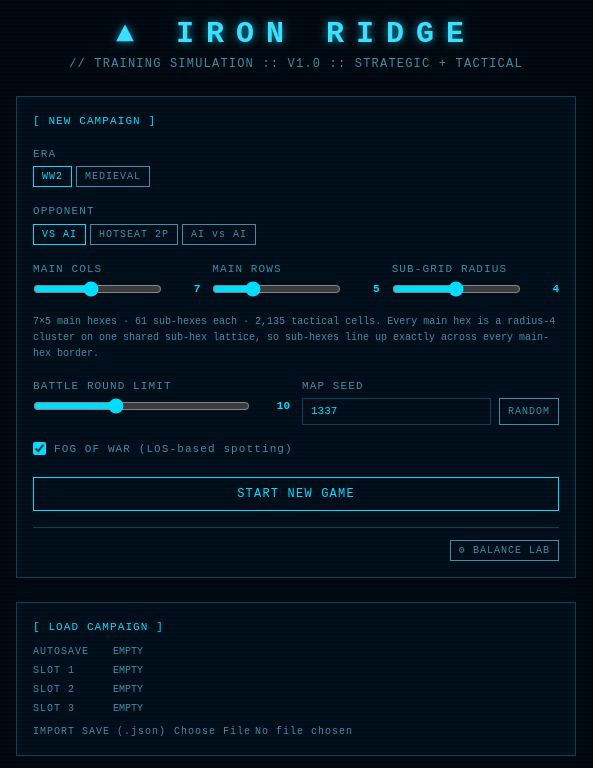
Test: App – setup screen › grid sliders update the configured size summary
This screenshot has width=593, height=768.
Set the slider labelled "SUB-GRID RADIUS 4" to "3": (428, 289) 392,281 -> 521,297
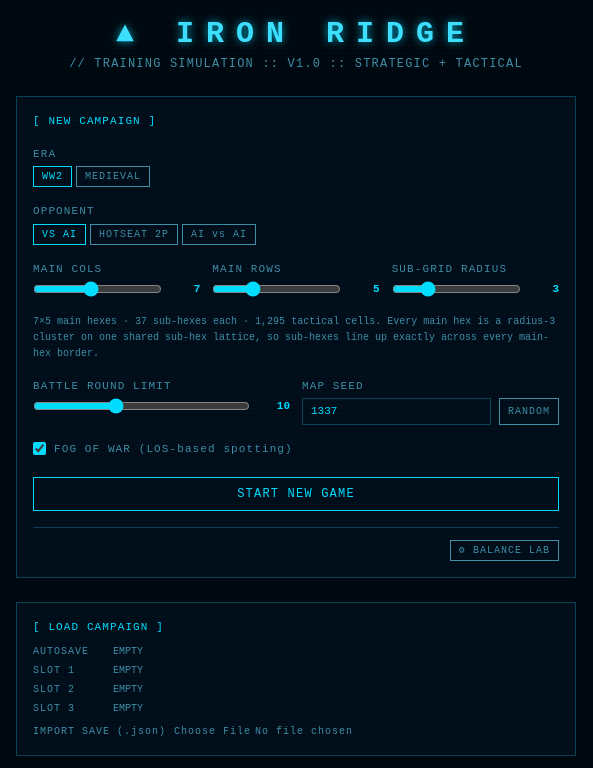
Set the slider labelled "MAIN COLS 7" to "4": (54, 289) 33,281 -> 162,297
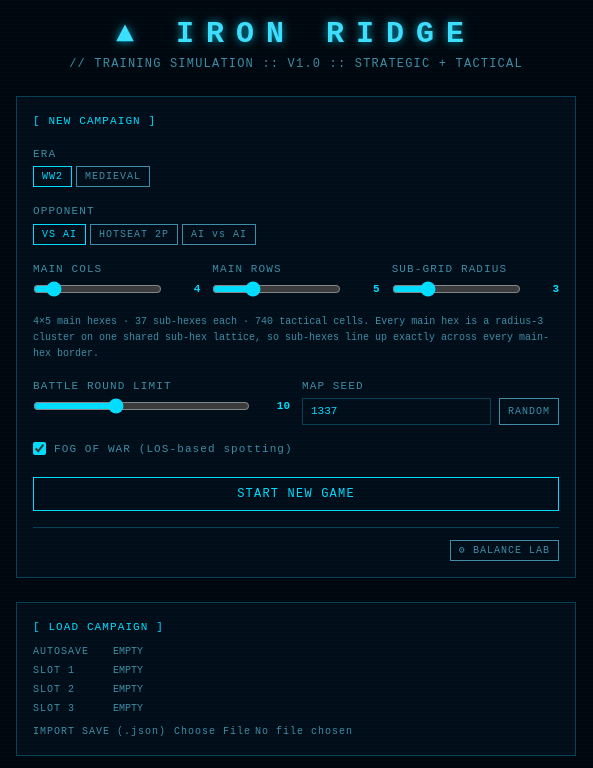
Set the slider labelled "MAIN ROWS 5" to "3": (220, 289) 212,281 -> 341,297
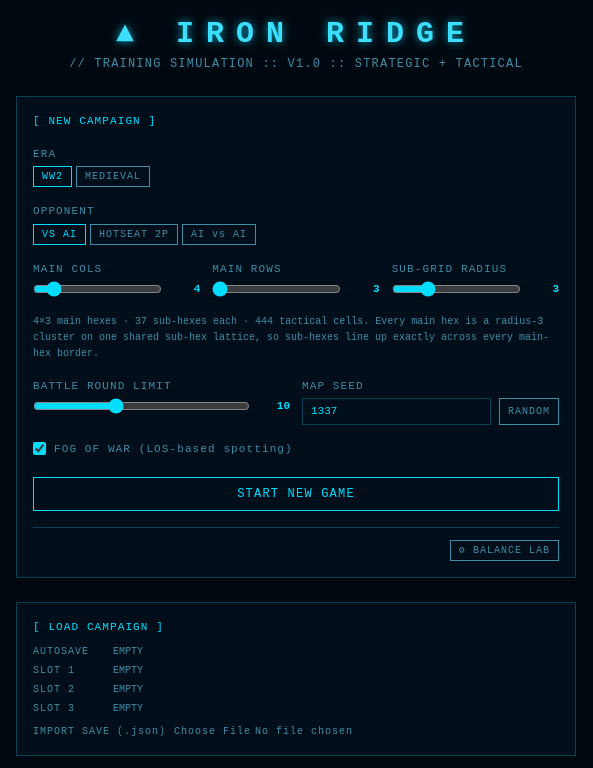
Check: the text "37 sub-hexes each · 444 tactical cells" is shown, box 33,314 -> 559,362
